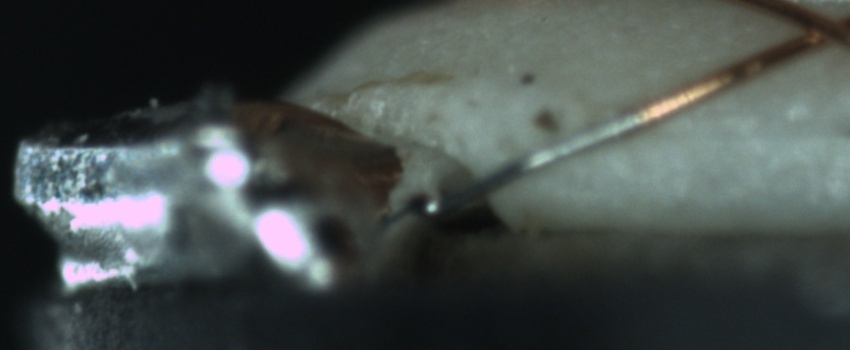CL: (774, 3, 849, 56)
DL: (630, 100, 850, 164)
TS: (426, 110, 641, 212)
